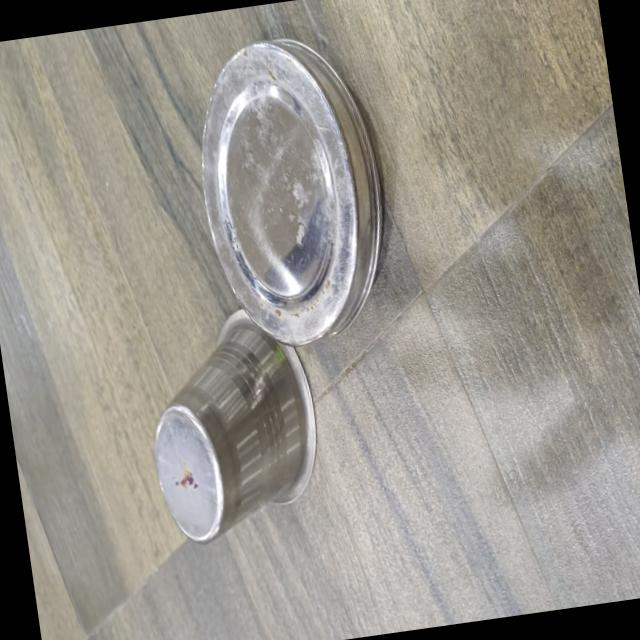Steel-NonBio: (184, 22, 406, 356), (136, 304, 332, 553)
